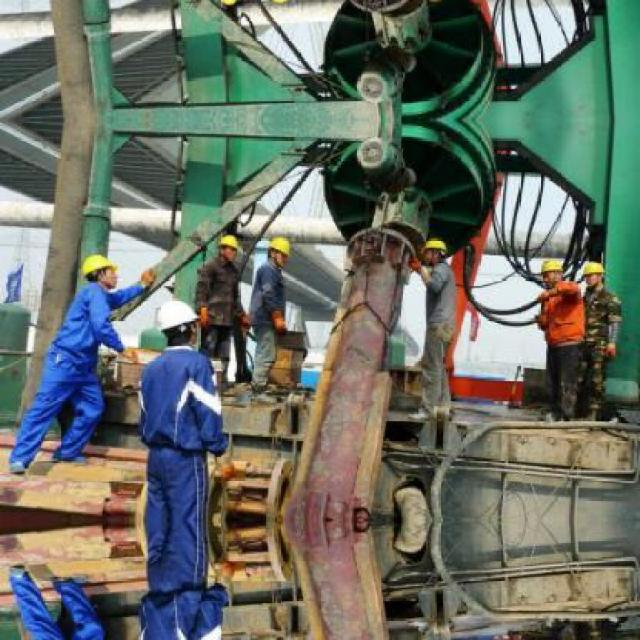Reflective-Jacket: (129, 344, 237, 462), (532, 278, 591, 357)
Safety-Helmet: (149, 296, 206, 338), (70, 248, 124, 284), (415, 232, 454, 262), (264, 230, 298, 262), (575, 256, 611, 282), (213, 230, 244, 256), (535, 254, 568, 278)
